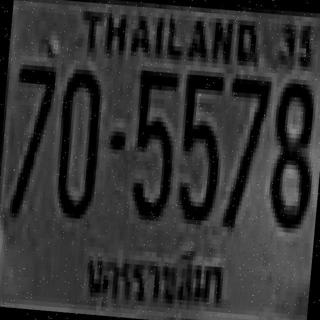N00: (51, 64, 102, 215)
N05: (126, 66, 178, 217), (172, 70, 223, 221)
N07: (218, 71, 270, 227), (5, 59, 54, 215)
N08: (266, 78, 316, 225)
P30: (76, 231, 232, 320)
